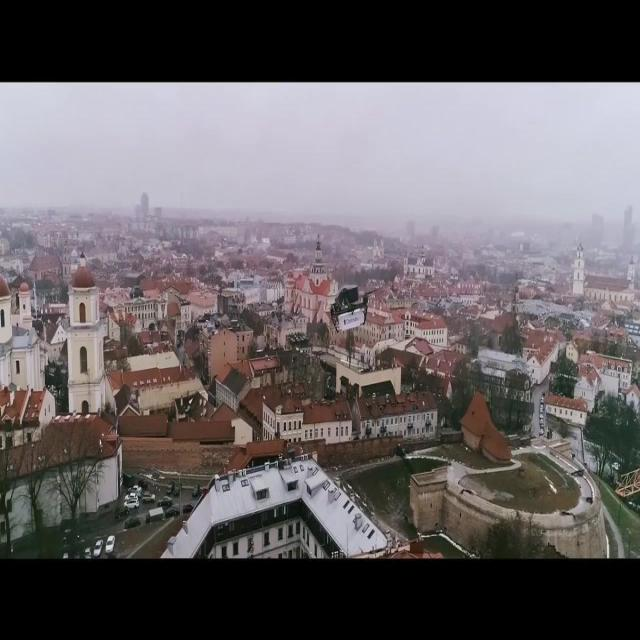UAV: (330, 284, 380, 334)
